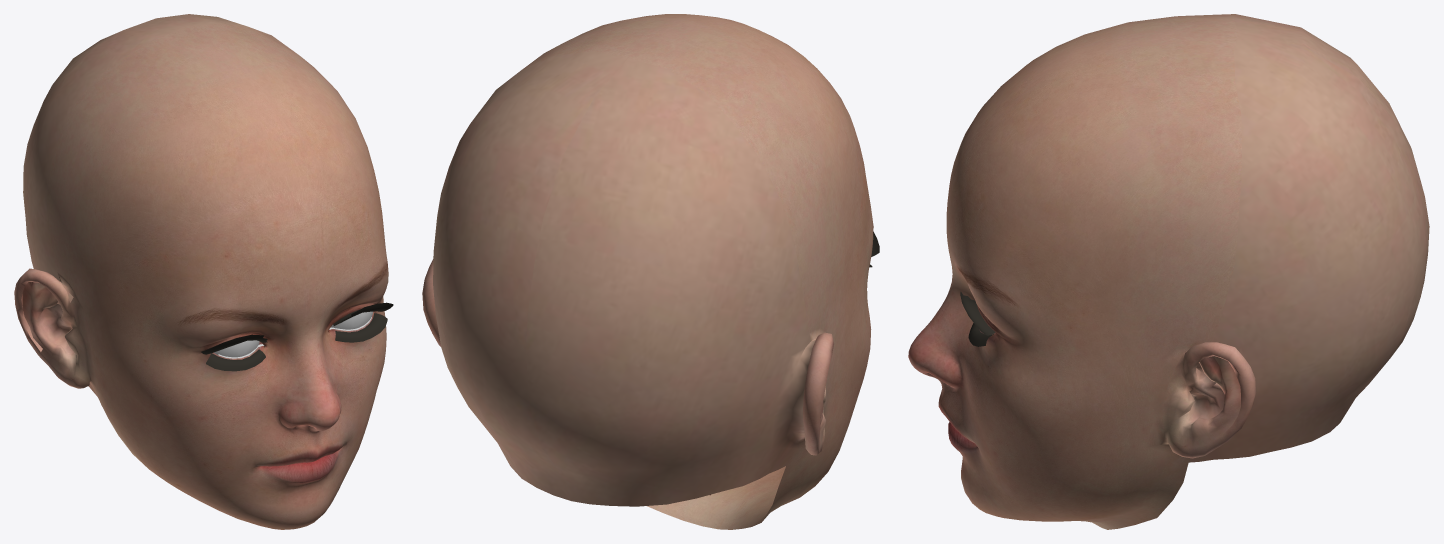
Rendered from Old.obj.
The picture shows the model from 3 angles, left to right: view 1: azimuth 30°, elevation 25°; view 2: azimuth 150°, elevation 25°; view 3: azimuth 270°, elevation 25°; orthographic projection. The views are drawn at different scales.
Parts seen in each view (by area): view 1: head, rEye; view 2: head; view 3: head.
Boxes of the visible parts, x1=… form: head: x1=14, y1=14, x2=393, y2=529; rEye: x1=214, y1=340, x2=259, y2=357; head: x1=422, y1=14, x2=879, y2=529; head: x1=908, y1=14, x2=1429, y2=529.
Bounding box in the file's own units: 18.66 × 23.21 × 22.39.
